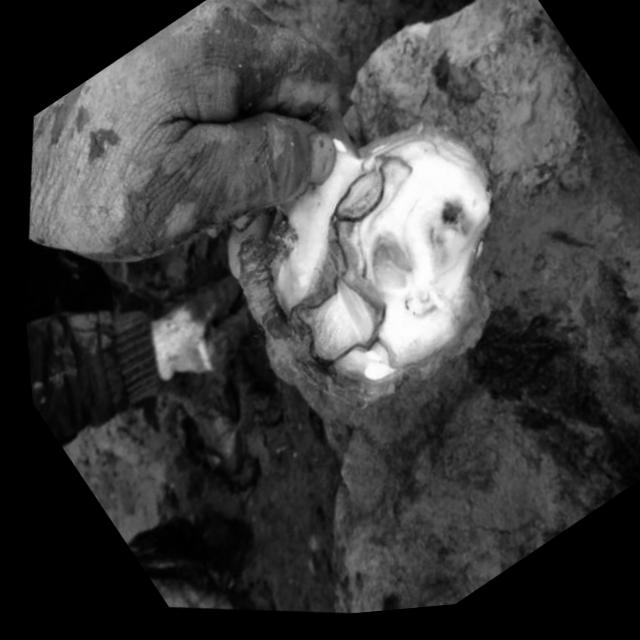Oyster-Open: (187, 68, 573, 450)
